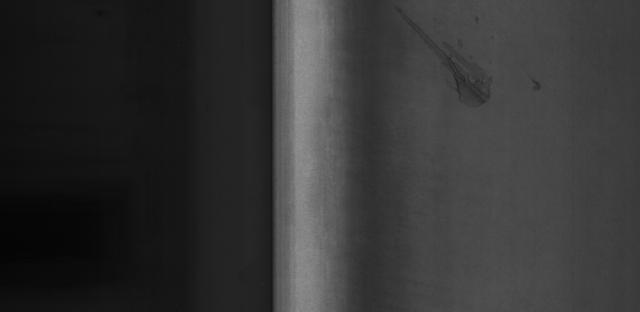water_spot: (384, 0, 549, 113)
